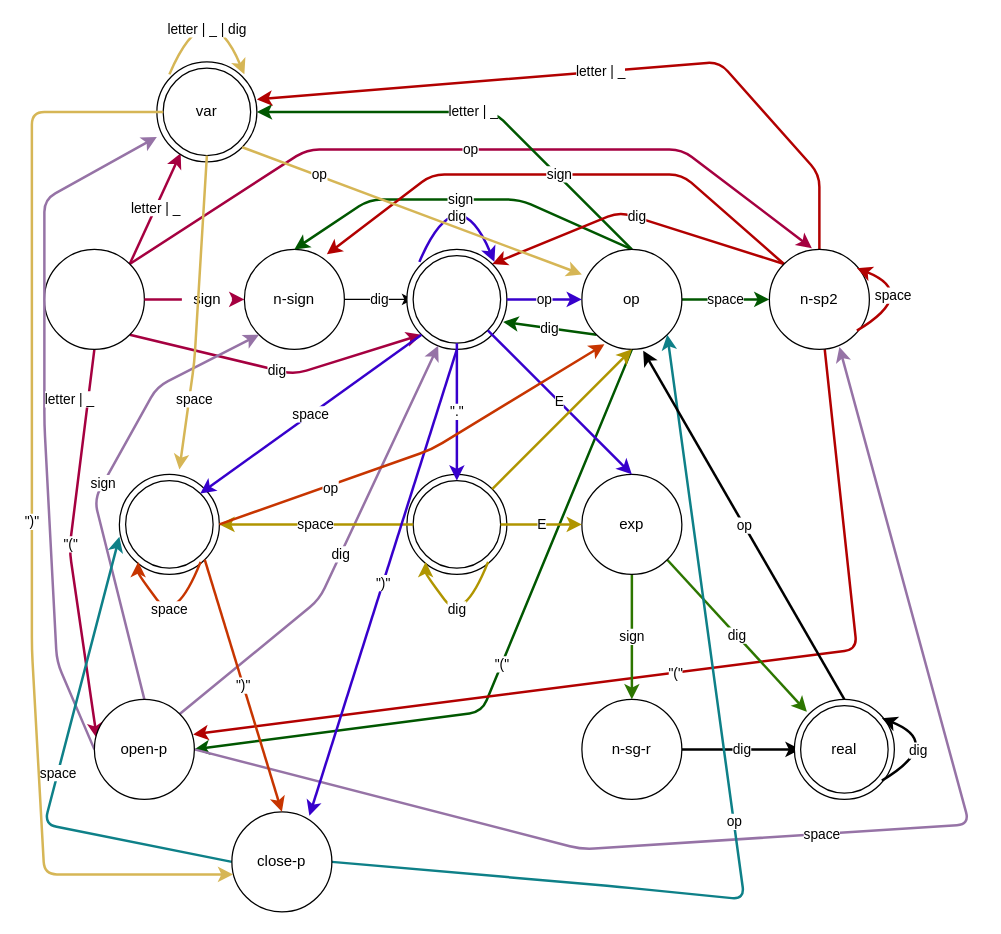
This 1001x934 diagram has some shape labels left out. The box of each missing label's shape, as (x1, y1, x2, y2) in pixels:
float: (412, 479, 501, 568)
int: (412, 254, 501, 343)
n-sp1: (124, 479, 213, 568)
start: (43, 248, 144, 349)
